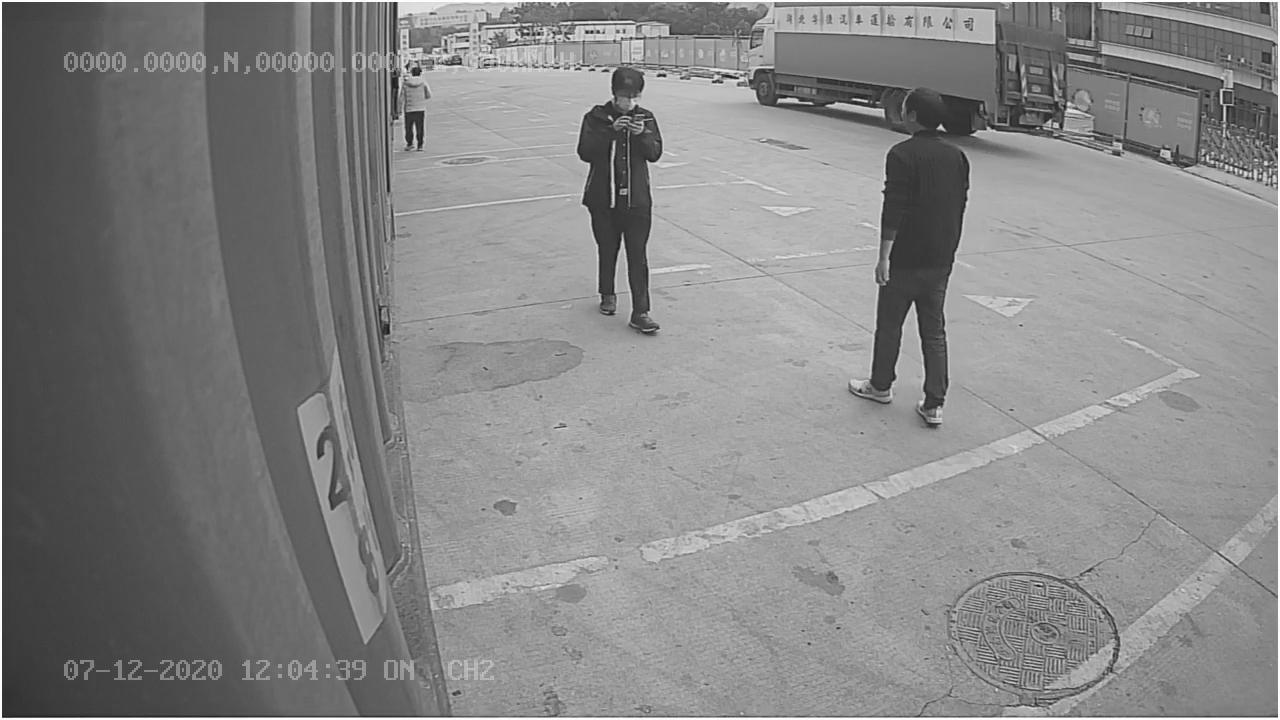person: (577, 64, 669, 334)
